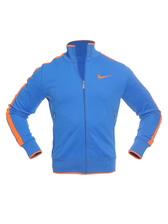clothoes: (5, 39, 163, 179)
